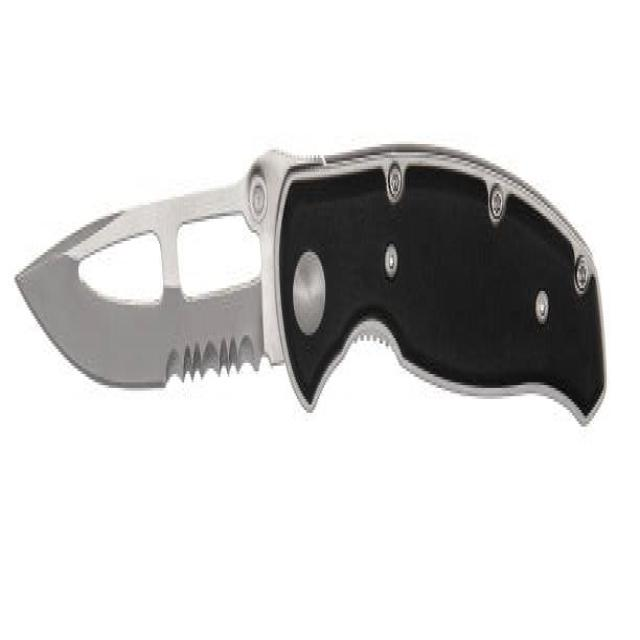knife: (12, 141, 613, 447)
